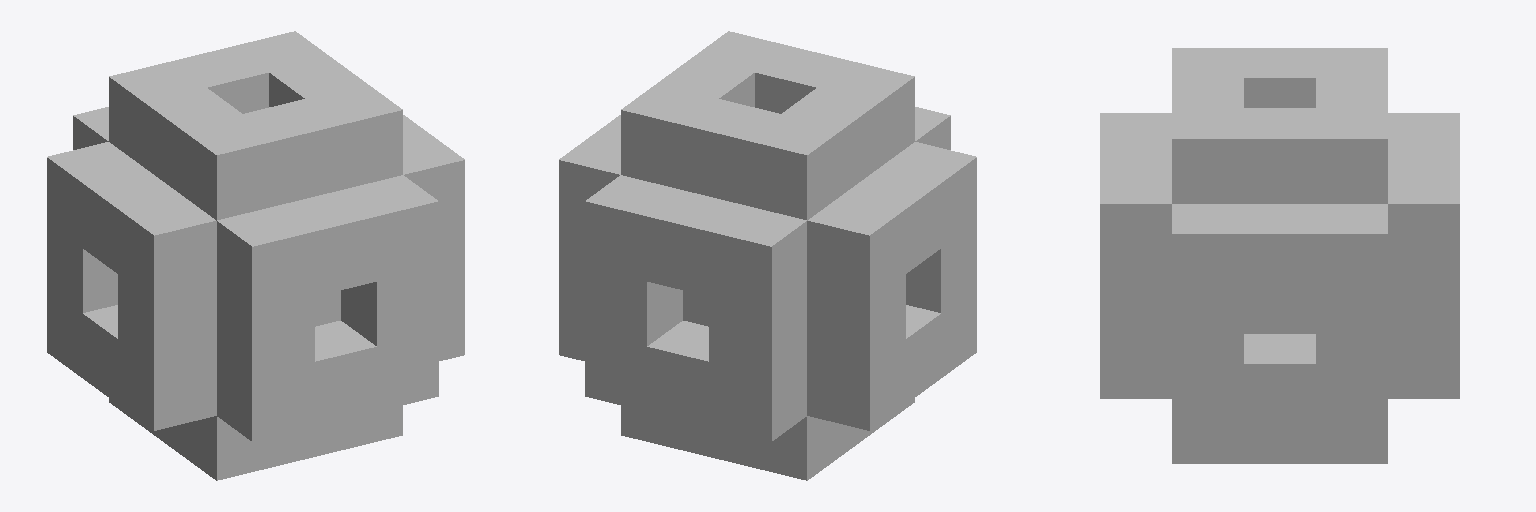
The model's file is Bullet.obj.
3 renders of one model, left to right at view 1: azimuth 30°, elevation 25°; view 2: azimuth 150°, elevation 25°; view 3: azimuth 270°, elevation 25°, orthographic.
Parts seen in each view (by area): view 1: object 1; view 2: object 1; view 3: object 1.
Boxes of the visible parts, x1=… form: object 1: x1=47, y1=31, x2=464, y2=480; object 1: x1=559, y1=31, x2=976, y2=480; object 1: x1=1100, y1=48, x2=1459, y2=463.
Bounding box in the file's own units: 0.5 × 0.5 × 0.5.